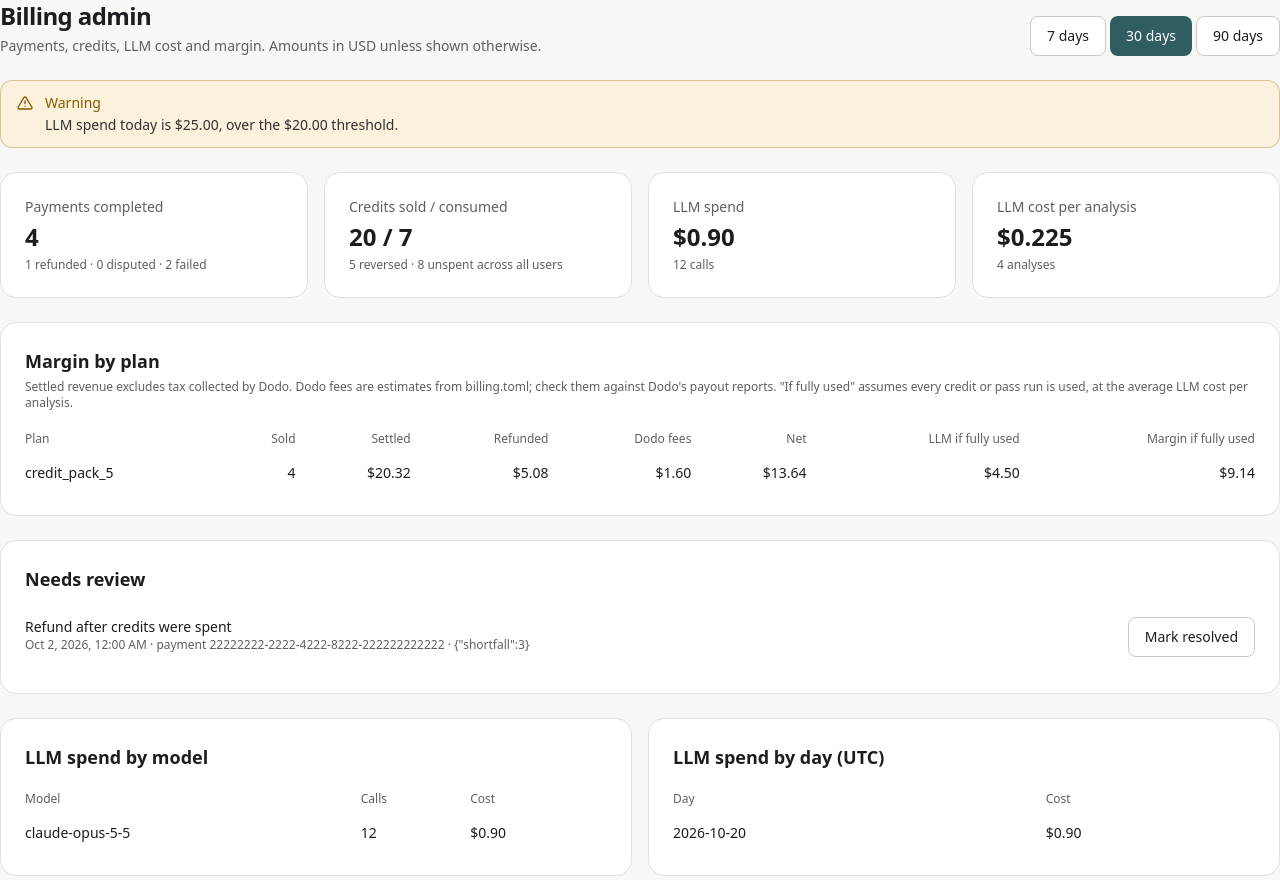
billing admin page › shows alerts, margin, costs and resolves a review
This screenshot has width=1280, height=880.
Check: the text "LLM spend today is $25.00, over the $20.00 threshold." is shown, box [45,115,398,135]
Check: the text "$13.64" is shown, box [703,455,819,491]
Click the button "Mark resolved" at (1191, 637), box [1128,617,1255,657]
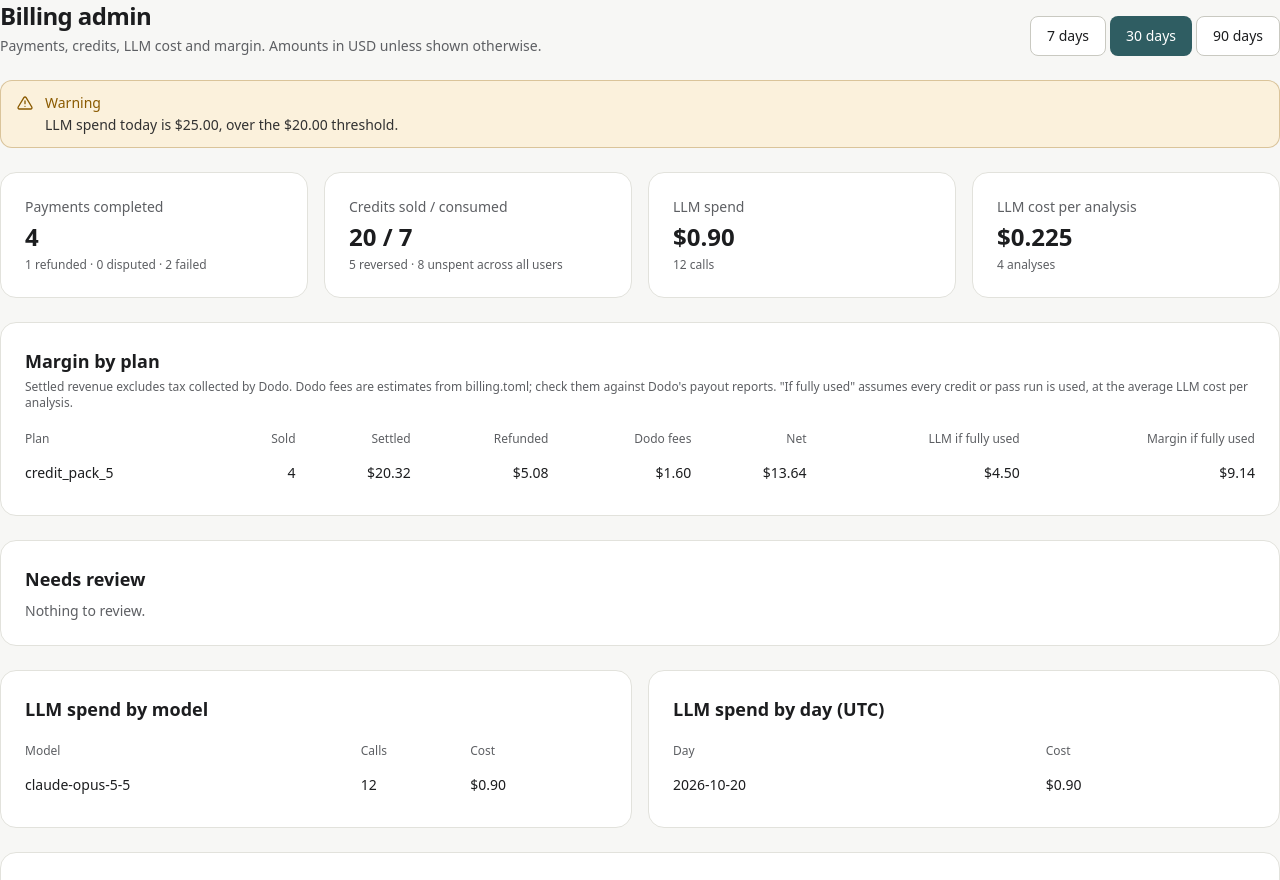
Check: the text "Nothing to review." is shown, box [25,601,145,620]
